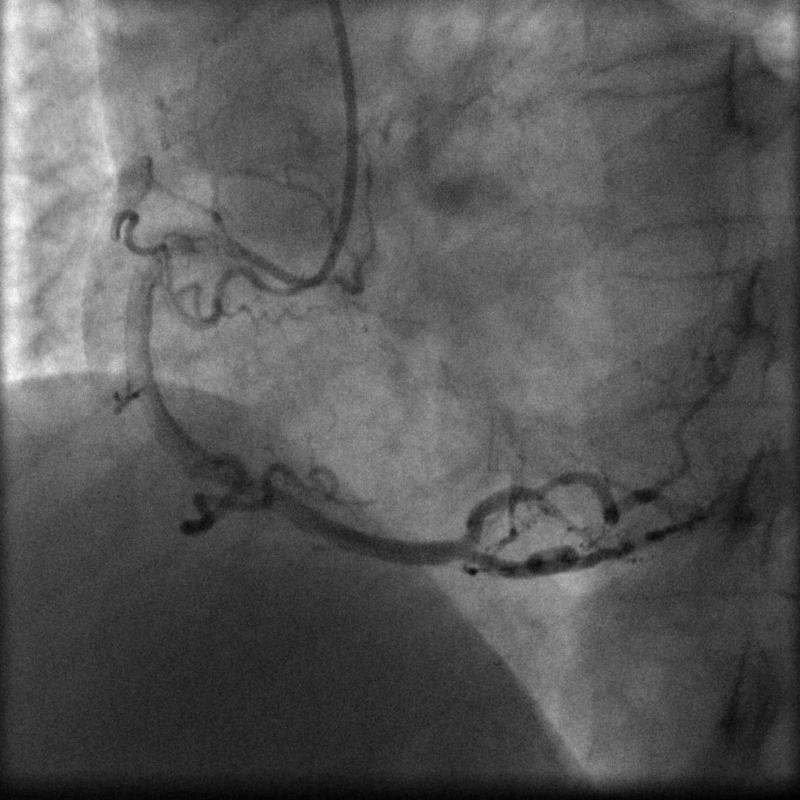Stenosis: (511, 472, 561, 506)
